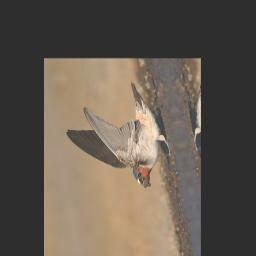Swallow: (58, 76, 178, 202)
